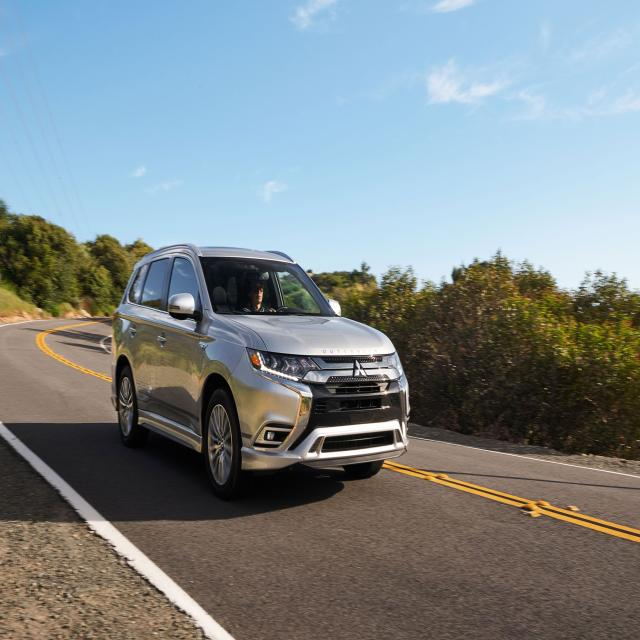light_vehicle: (110, 244, 410, 498)
